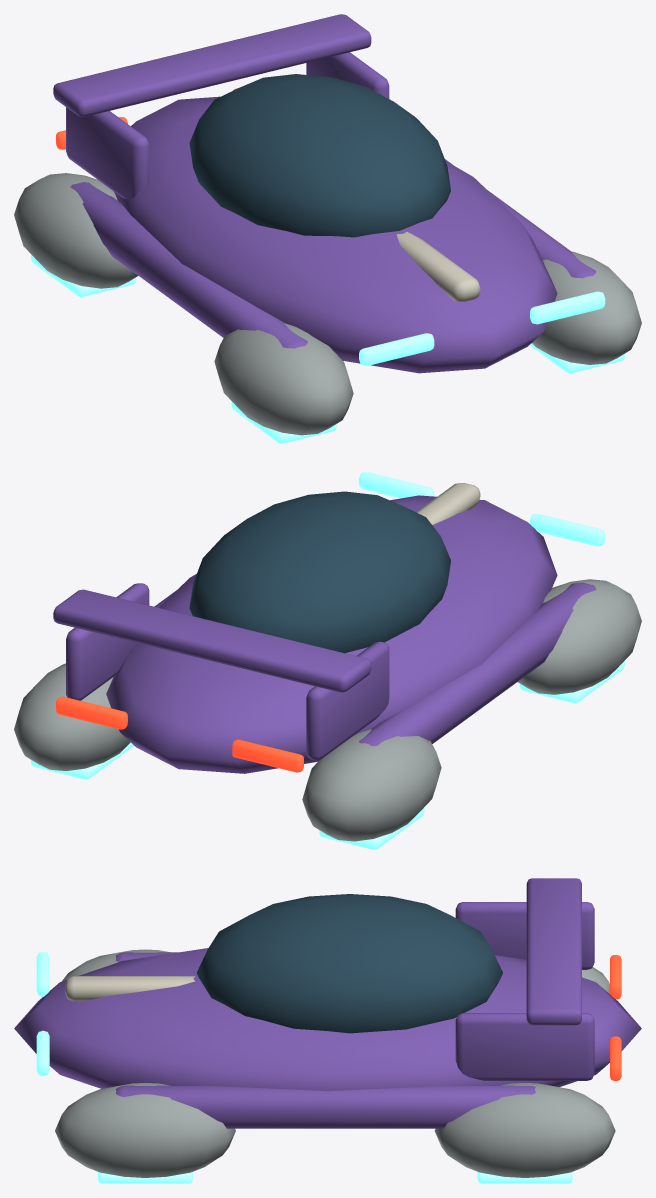
The model's file is car-9.glb.
3 renders of one model, top to bottom at view 1: azimuth 30°, elevation 25°; view 2: azimuth 150°, elevation 25°; view 3: azimuth 270°, elevation 25°, orthographic. The views are drawn at different scales.
Parts seen in each view (by area): view 1: fin.001, cockpit_glazing.001, thruster_pod.001, bonnet_spine.001, thruster_glow.001, headlamp_front.004, headlamp_front.003; view 2: fin.001, cockpit_glazing.001, thruster_pod.001, thruster_glow.001, bonnet_spine.001, taillamp_rear.004, headlamp_front.003, taillamp_rear.003, headlamp_front.004; view 3: fin.001, cockpit_glazing.001, thruster_pod.001, bonnet_spine.001, thruster_glow.001, headlamp_front.004, headlamp_front.003, taillamp_rear.004, taillamp_rear.003.
Boxes of the visible parts, x1=… form: fin.001: x1=53, y1=14, x2=596, y2=373; cockpit_glazing.001: x1=189, y1=74, x2=450, y2=237; thruster_pod.001: x1=14, y1=173, x2=641, y2=435; bonnet_spine.001: x1=396, y1=232, x2=480, y2=301; thruster_glow.001: x1=31, y1=255, x2=624, y2=443; headlamp_front.004: x1=530, y1=291, x2=605, y2=324; headlamp_front.003: x1=359, y1=333, x2=434, y2=365; fin.001: x1=53, y1=495, x2=596, y2=773; cockpit_glazing.001: x1=189, y1=491, x2=450, y2=653; thruster_pod.001: x1=14, y1=579, x2=641, y2=841; thruster_glow.001: x1=31, y1=661, x2=624, y2=849; bonnet_spine.001: x1=416, y1=483, x2=480, y2=524; taillamp_rear.004: x1=56, y1=696, x2=127, y2=729; headlamp_front.003: x1=530, y1=514, x2=605, y2=546; taillamp_rear.003: x1=232, y1=739, x2=303, y2=772; headlamp_front.004: x1=359, y1=472, x2=434, y2=498; fin.001: x1=14, y1=878, x2=641, y2=1128; cockpit_glazing.001: x1=196, y1=894, x2=502, y2=1033; thruster_pod.001: x1=55, y1=949, x2=615, y2=1177; bonnet_spine.001: x1=65, y1=976, x2=194, y2=1001; thruster_glow.001: x1=98, y1=1172, x2=572, y2=1183; headlamp_front.004: x1=36, y1=1030, x2=49, y2=1075; headlamp_front.003: x1=36, y1=951, x2=49, y2=996; taillamp_rear.004: x1=610, y1=1036, x2=621, y2=1080; taillamp_rear.003: x1=610, y1=955, x2=621, y2=999.
Size of the model in its own units: 2.92 by 1.49 by 4.3.
